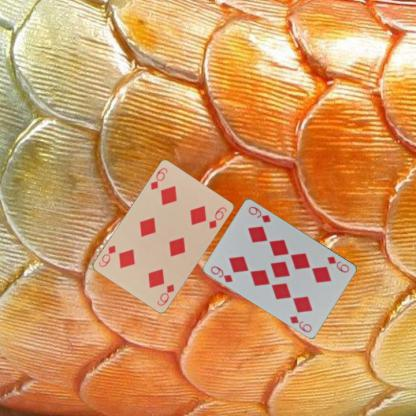6d: (154, 282, 176, 307), (148, 165, 169, 191)
9d: (208, 263, 234, 284), (324, 254, 350, 274)
